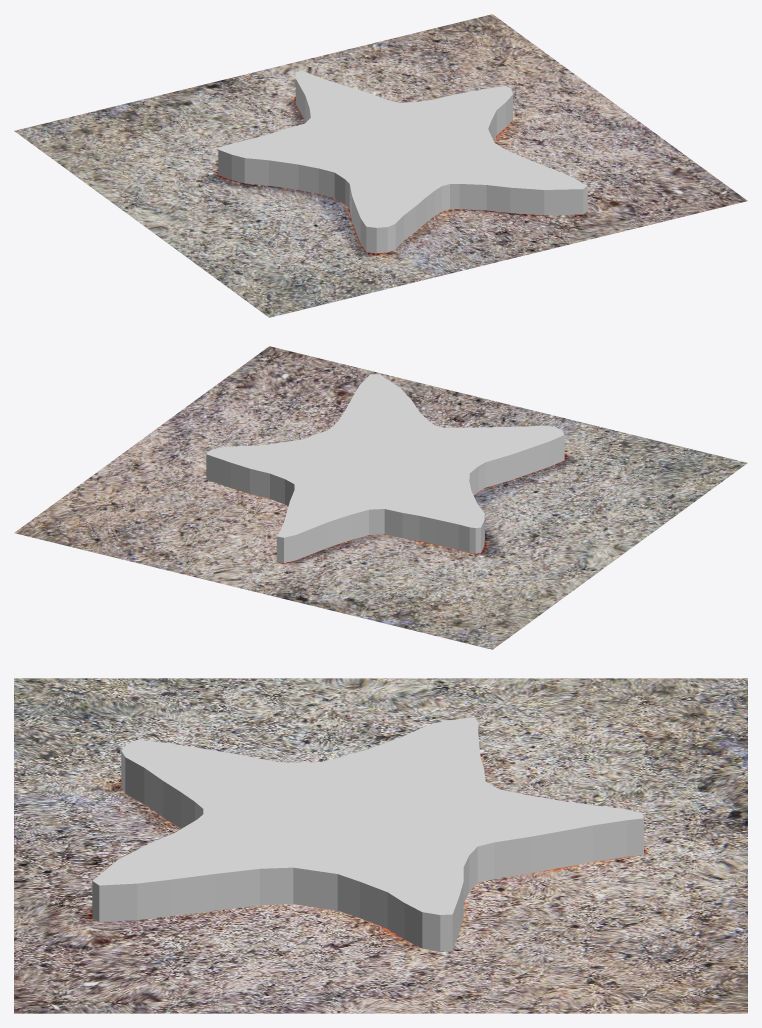
File: Star Fish Scale Test.FBX
3 renders of one model, top to bottom at view 1: azimuth 30°, elevation 25°; view 2: azimuth 150°, elevation 25°; view 3: azimuth 270°, elevation 25°, orthographic. The views are drawn at different scales.
Visible parts, largest first — view 1: Plane001, StarFish; view 2: Plane001, StarFish; view 3: Plane001, StarFish.
Boxes of the visible parts, left/top/right/bottom form: Plane001: left=14, top=14, right=747, bottom=317; StarFish: left=218, top=70, right=587, bottom=253; Plane001: left=14, top=346, right=747, bottom=649; StarFish: left=206, top=374, right=564, bottom=562; Plane001: left=14, top=678, right=747, bottom=1013; StarFish: left=92, top=717, right=643, bottom=951.
Size of the model in its own units: 197 by 10 by 182.
Materials: 1 (1 with a texture image).
